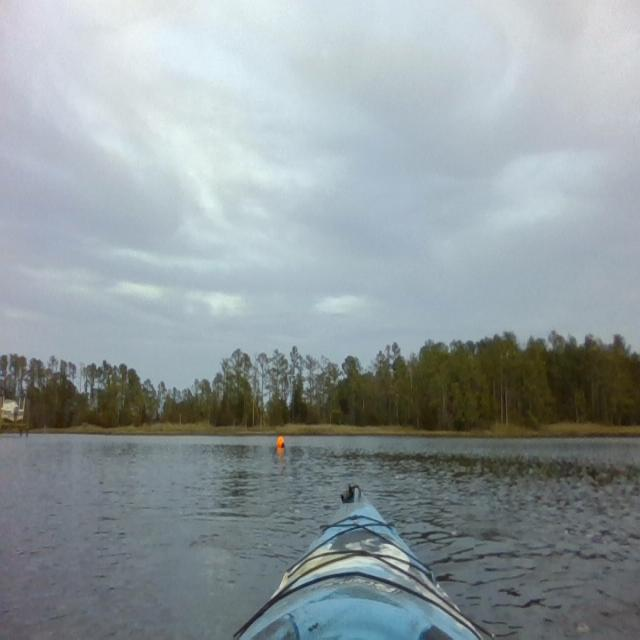Buoy: (276, 434, 286, 452)
